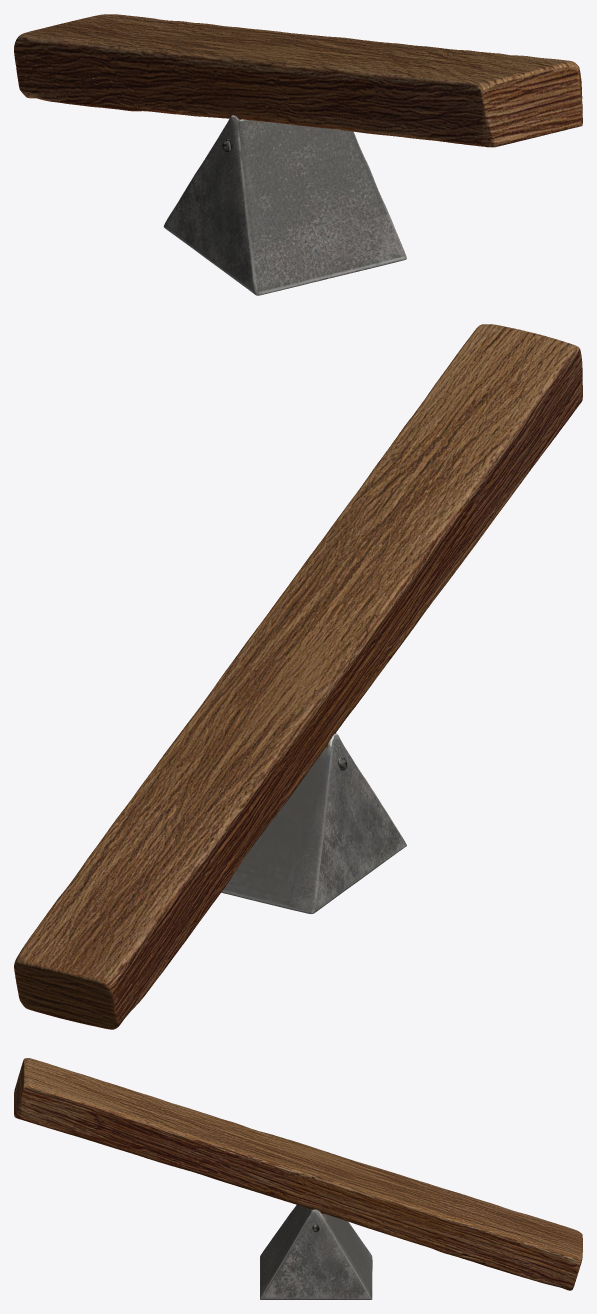
Rendered from lever.glb.
3 renders of one model, top to bottom at view 1: azimuth 30°, elevation 25°; view 2: azimuth 150°, elevation 25°; view 3: azimuth 270°, elevation 25°, orthographic. The views are drawn at different scales.
Parts seen in each view (by area): view 1: tripo_node_a52fb066-5be8-4e3b-81c2-c3bba0e3f713; view 2: tripo_node_a52fb066-5be8-4e3b-81c2-c3bba0e3f713; view 3: tripo_node_a52fb066-5be8-4e3b-81c2-c3bba0e3f713.
Boxes of the visible parts, <box> form: tripo_node_a52fb066-5be8-4e3b-81c2-c3bba0e3f713: <box>14,14,582,295</box>; tripo_node_a52fb066-5be8-4e3b-81c2-c3bba0e3f713: <box>14,324,582,1029</box>; tripo_node_a52fb066-5be8-4e3b-81c2-c3bba0e3f713: <box>14,1058,582,1299</box>.
Bounding box in the file's own units: 0.1801 × 0.397 × 0.9806.
Materials: 1 (1 with a texture image).
